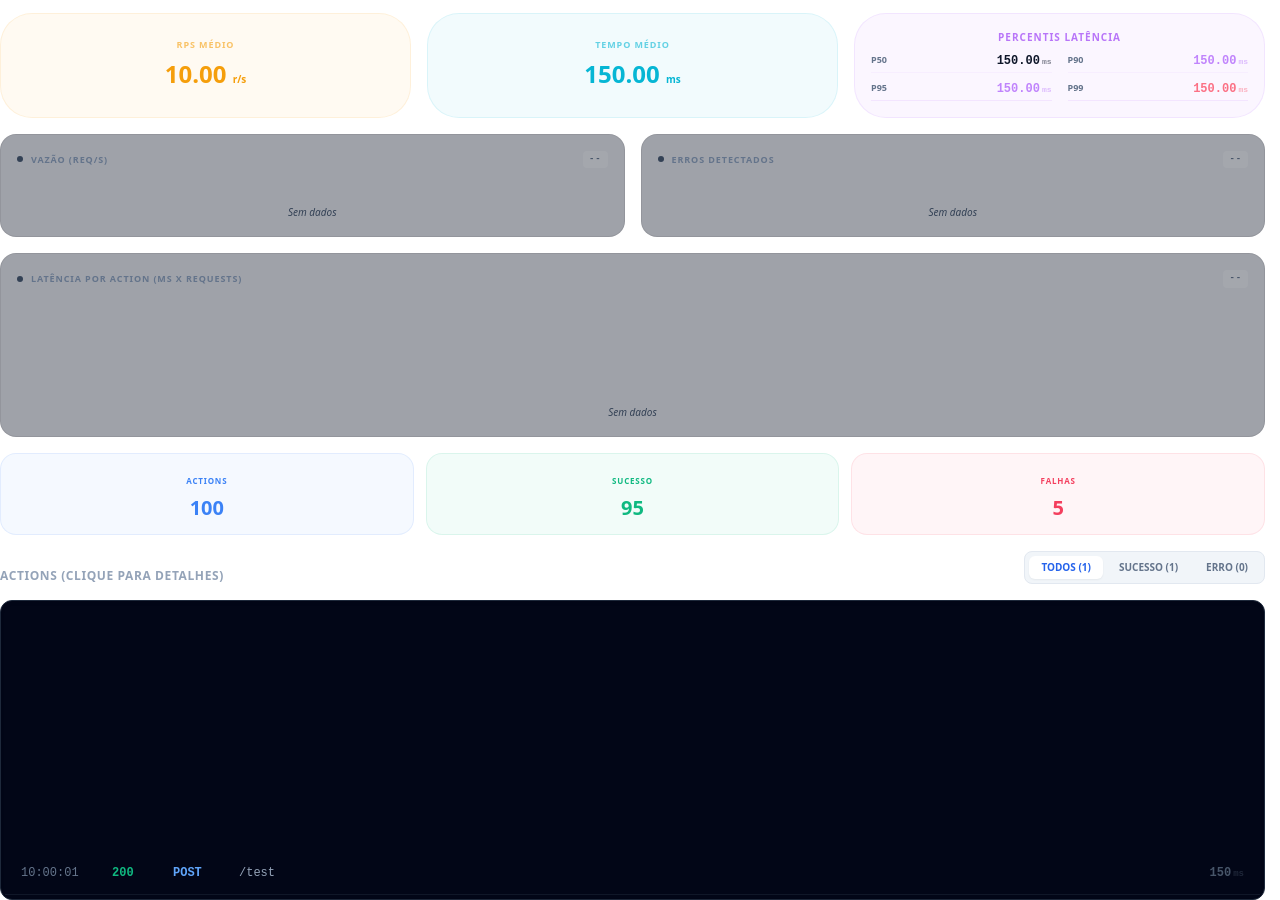
Scenario: ReportView › should omit sensitive headers in inspection by default
(page scrolled)
Click the text "10:00:01" at (50, 873), box [21,866,79,880]
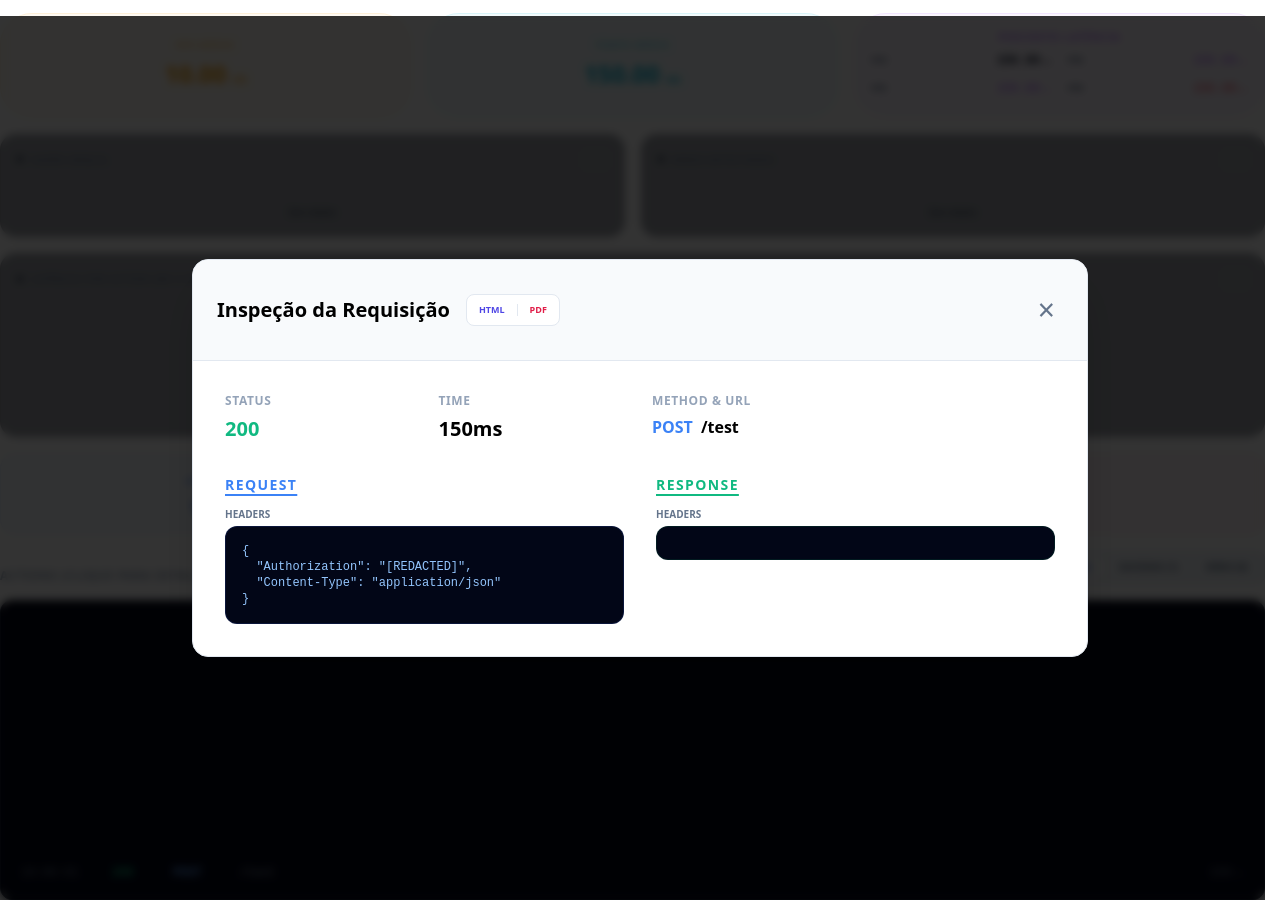
Check: the text "\"Content-Type\"" is shown, box [242,544,501,606]
